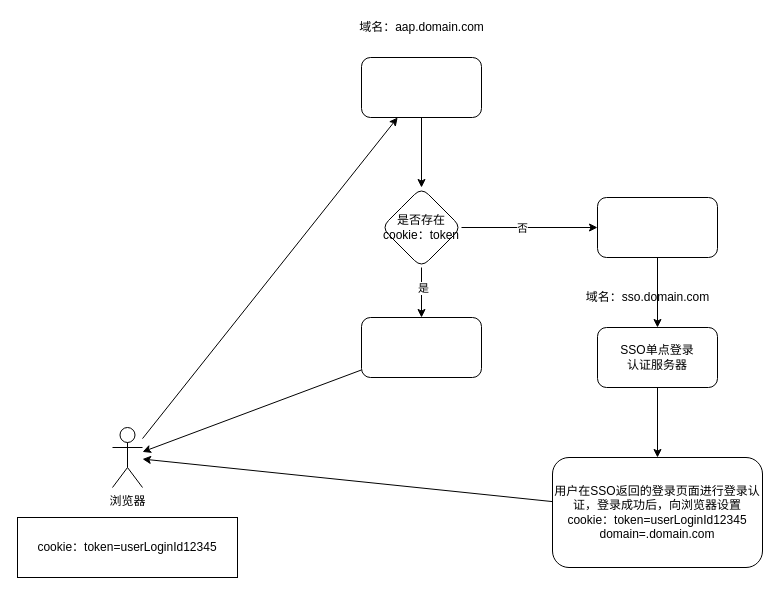
This 780x595 diagram has some shape labels left out. The centre of each missing label's shape, as x and y in pixels:
"应用服务器" goes at [421,87].
"身份验证通过" goes at [421,347].
"重定向到sso服务器，并带上回调地址" goes at [657,227].
